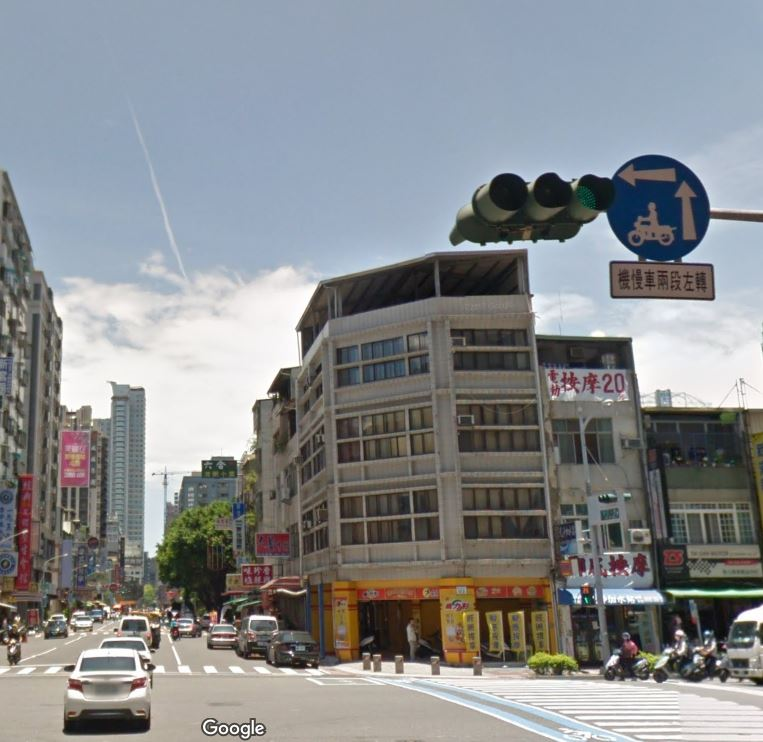Traffic_light_green: (445, 162, 613, 254)
car: (60, 647, 159, 735)
